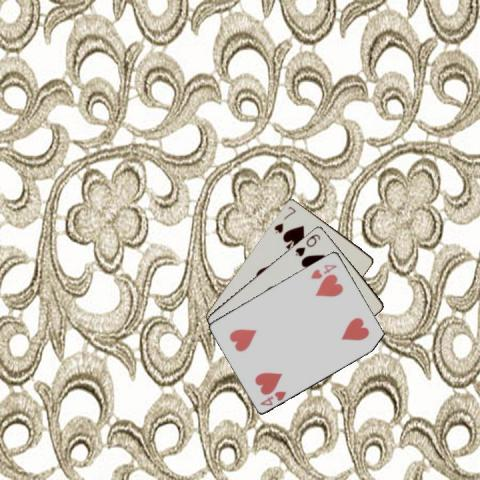4h: (307, 261, 338, 280), (258, 388, 288, 407)
6s: (292, 231, 322, 257)
7s: (271, 203, 297, 235)
